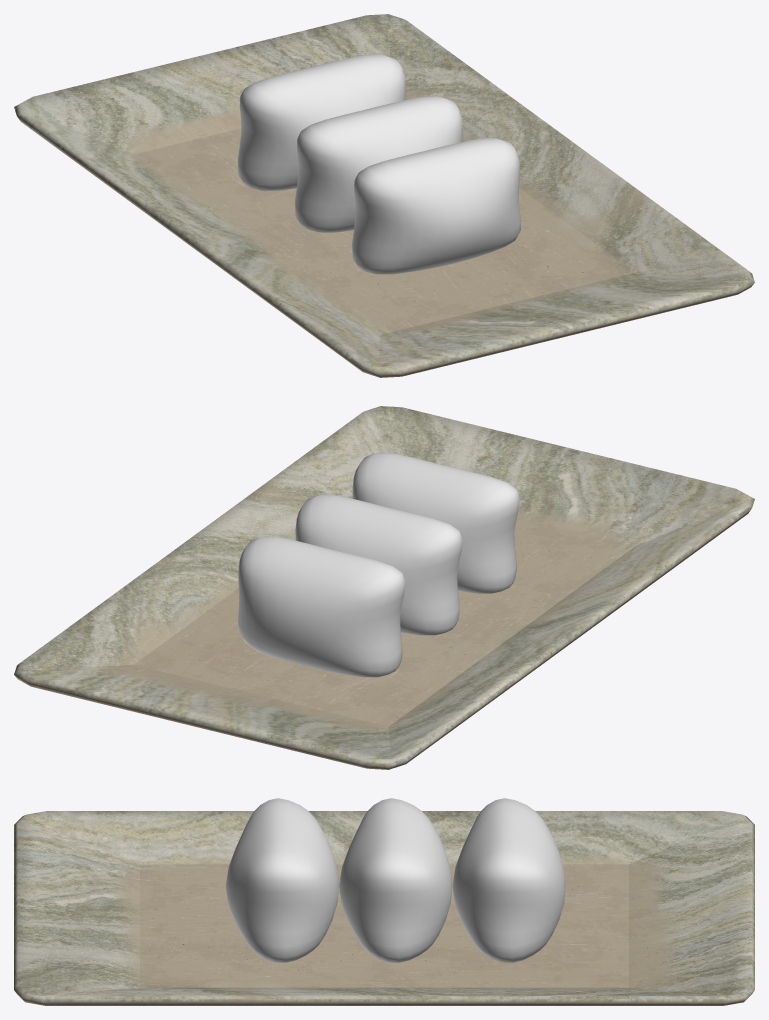
The model's file is Inari.fbx.
3 views of the same model, one above another, from view 1: azimuth 30°, elevation 25°; view 2: azimuth 150°, elevation 25°; view 3: azimuth 270°, elevation 25° (orthographic).
Visible parts, largest first — view 1: Inari; view 2: Inari; view 3: Inari.
Boxes of the visible parts, x1,y1,x2,y2 form: Inari: (14, 14, 754, 377); Inari: (14, 406, 754, 769); Inari: (14, 798, 754, 1005).
Bounding box in the file's own units: 0.4558 × 0.121 × 0.7557.
